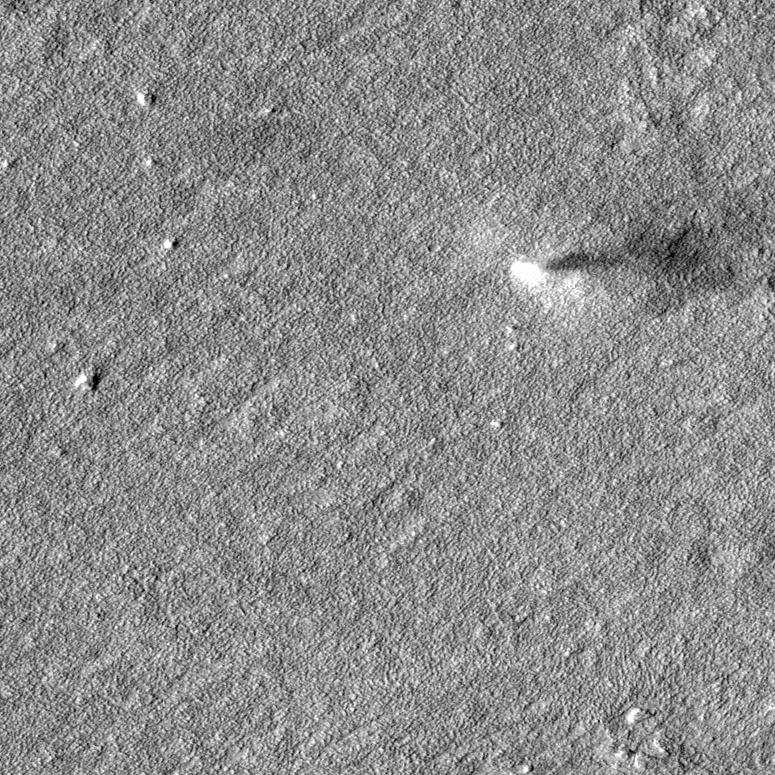dust_devil: (508, 225, 736, 318)
